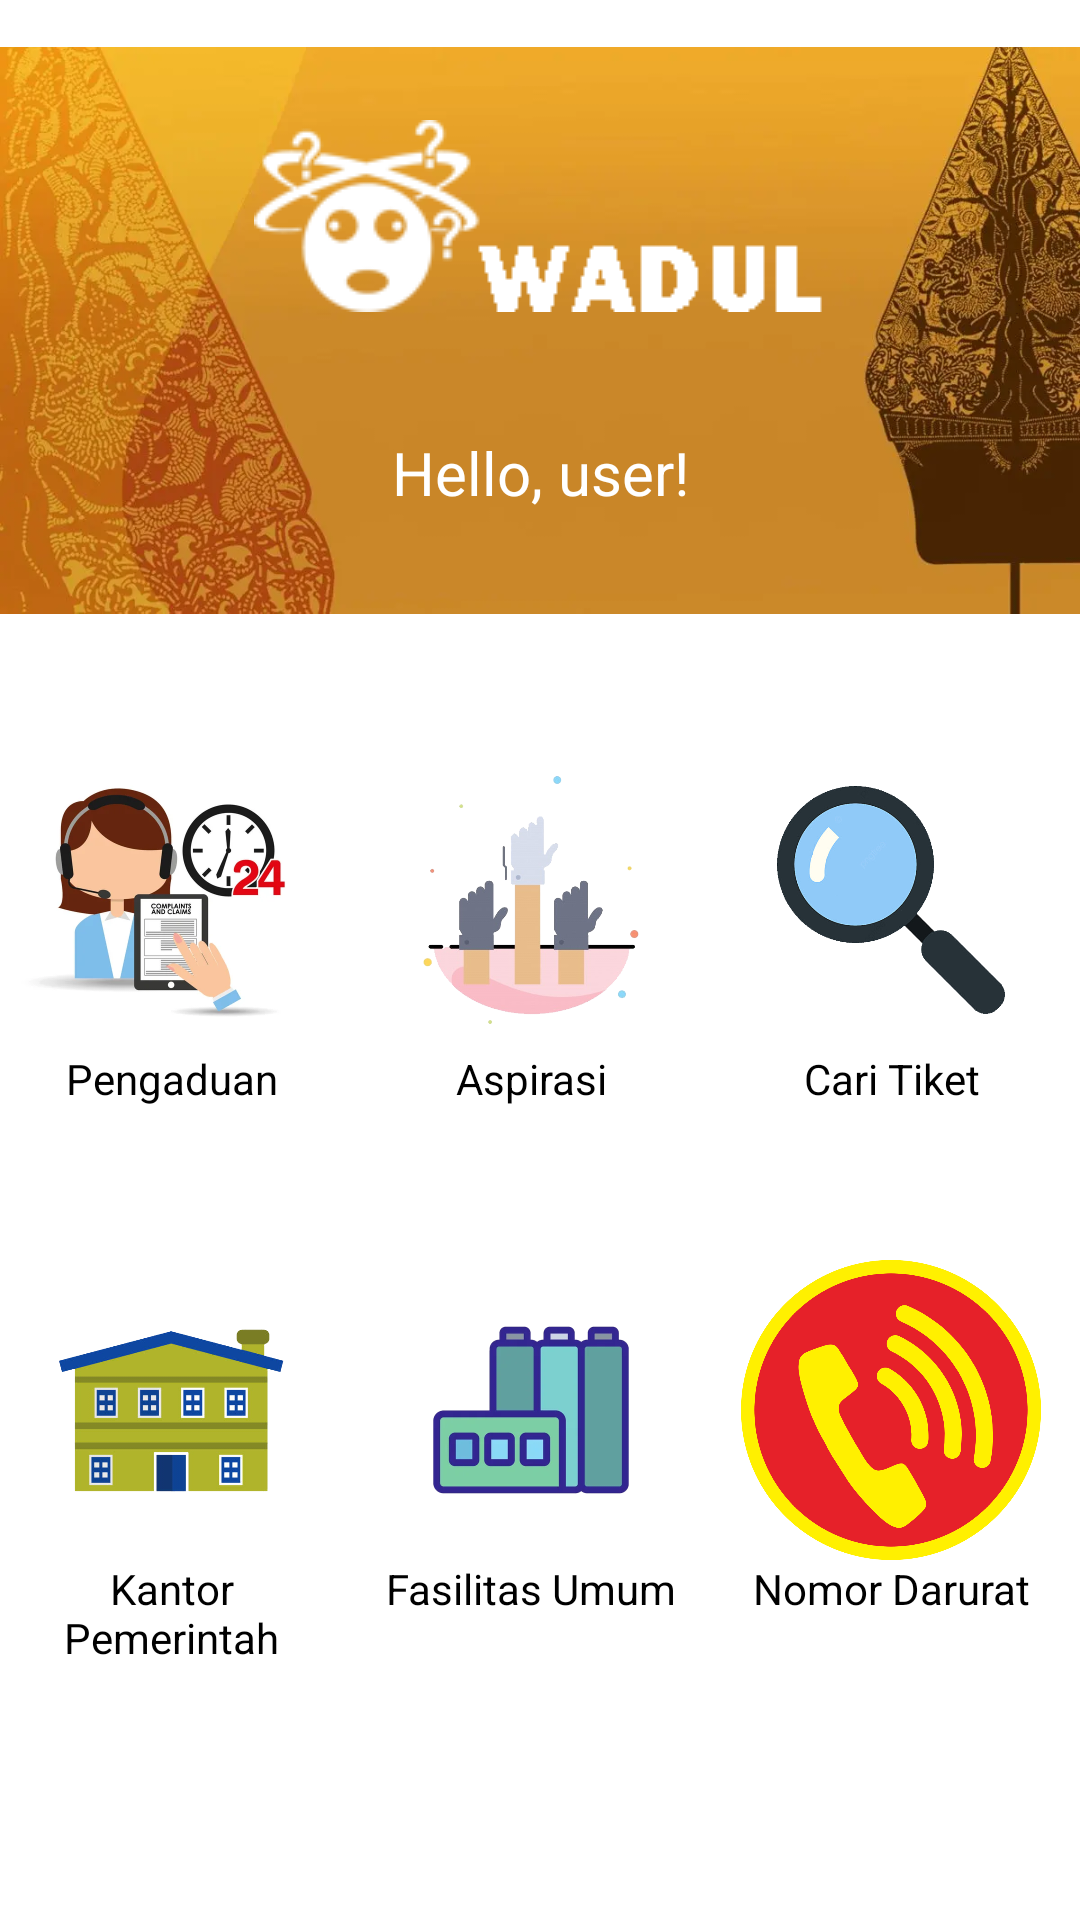

Screen size 1080 x 1920. Icon name, then its center in pixels as (x,y):
callcenter: (169,901)
telepon: (891,1410)
